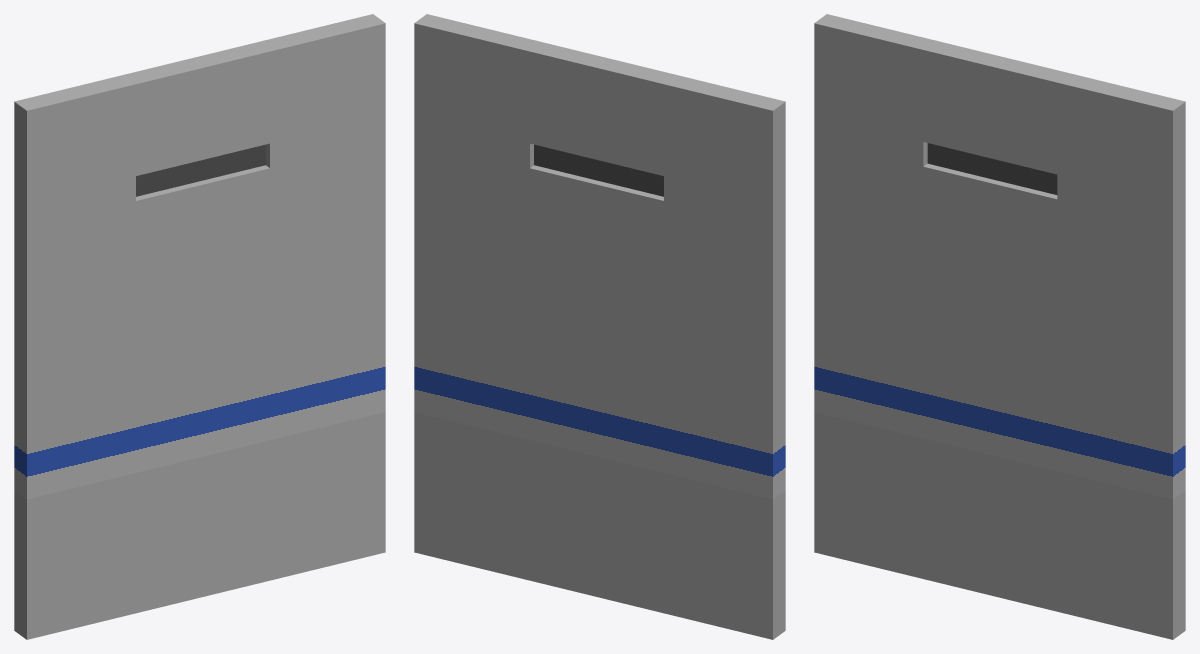
File: door4.glb
3 renders of one model, left to right at view 1: azimuth 30°, elevation 25°; view 2: azimuth 150°, elevation 25°; view 3: azimuth 330°, elevation 25°, orthographic.
Visible parts, largest first — view 1: Door; view 2: Door; view 3: Door.
Part boxes in pixels (x1=…): Door: x1=14, y1=14, x2=385, y2=639; Door: x1=414, y1=14, x2=785, y2=639; Door: x1=814, y1=14, x2=1185, y2=639.
Size of the model in its own units: 0.3257 by 0.4589 by 0.02.
1 material, 1 textured.
